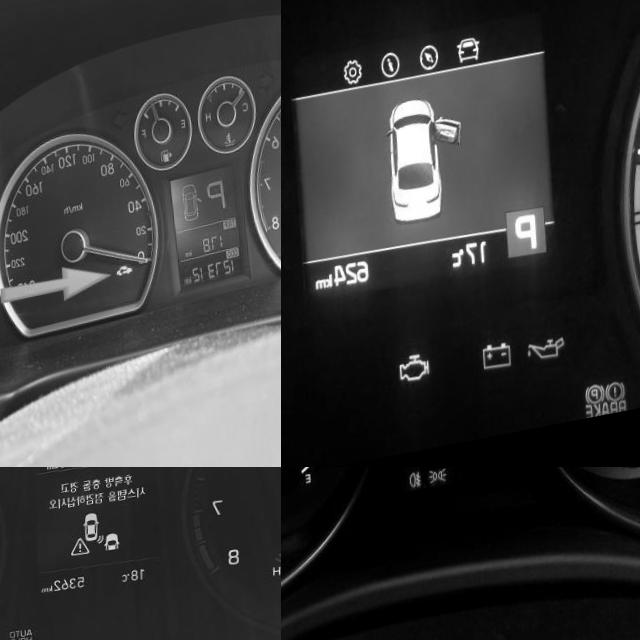FrontFogLight: (403, 482, 418, 502)
SideLamp: (423, 480, 441, 498)
